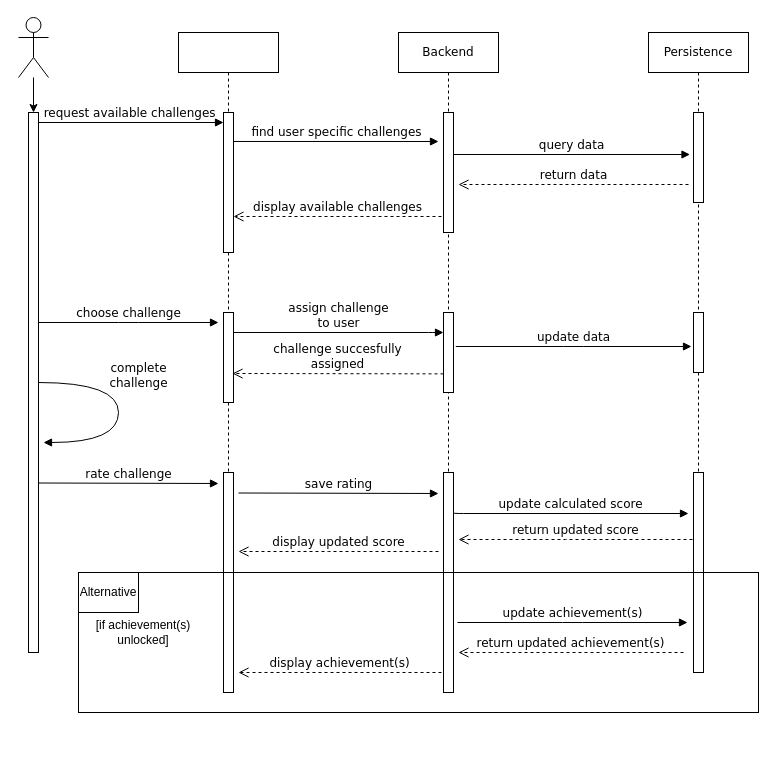
The diagram is 776 pixels wide and 760 high, and some of its shapes have lost their labels. Here are the shapes that lost their labels. From the top down, the centre of each, then its label:
At pixel 33 47: ": User".
At pixel 228 362: "GUI".
